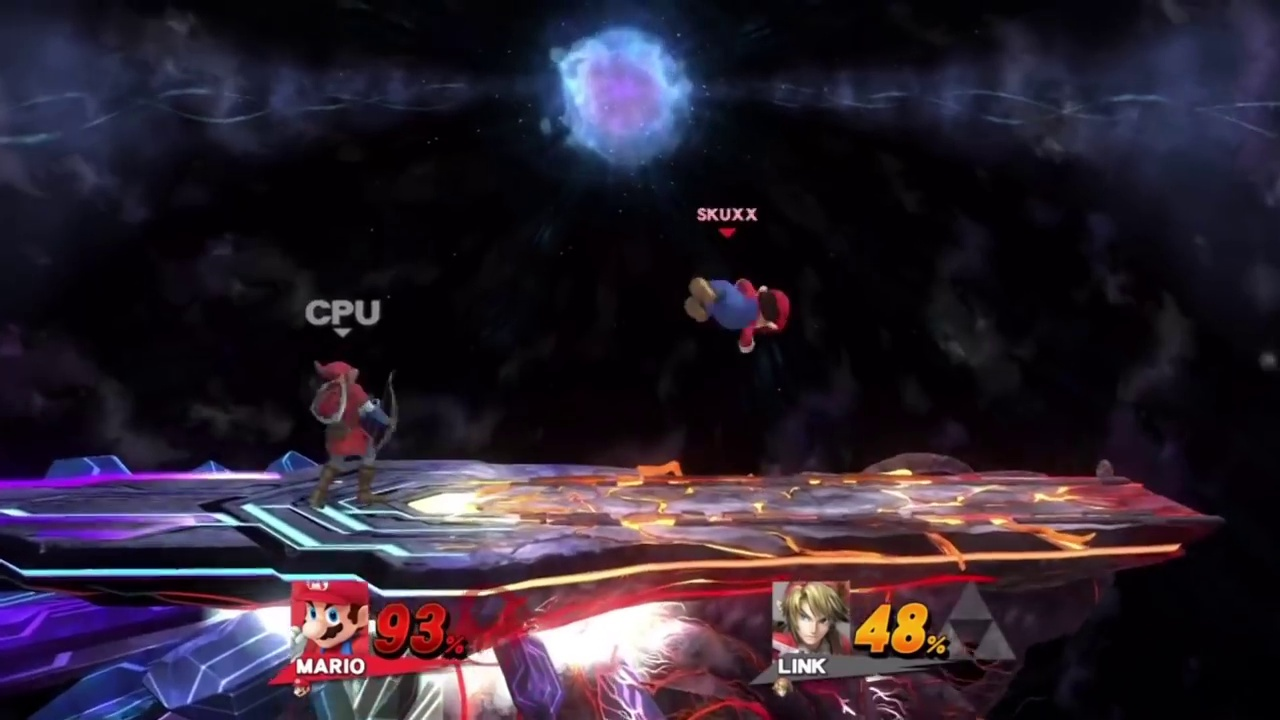Mario: (676, 274, 789, 356)
